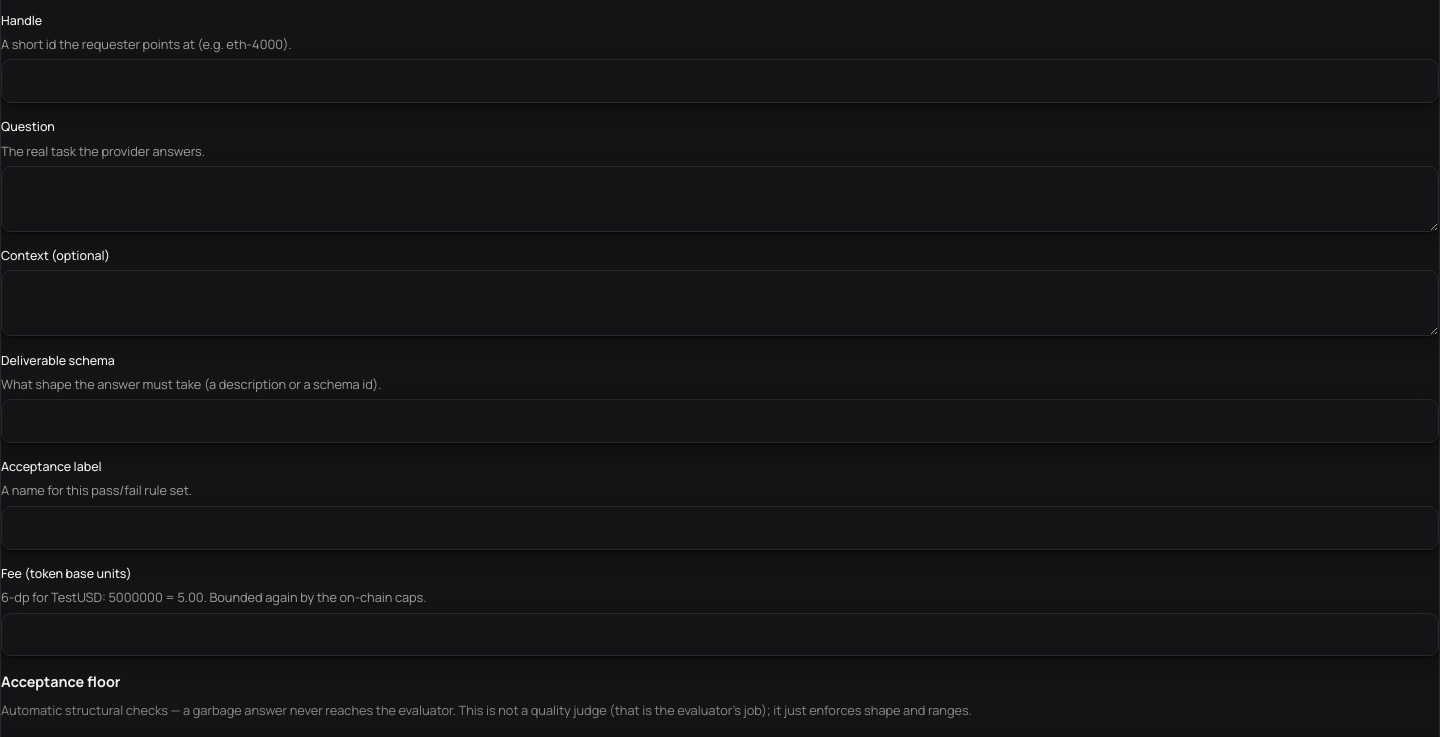
JobSpecEditor › refuses to save without a rule or a numeric fee (the floor cannot be empty)
Type "x" into the field with test id "js-ref". click: (720,81)
box: left=1, top=60, right=1439, bottom=103
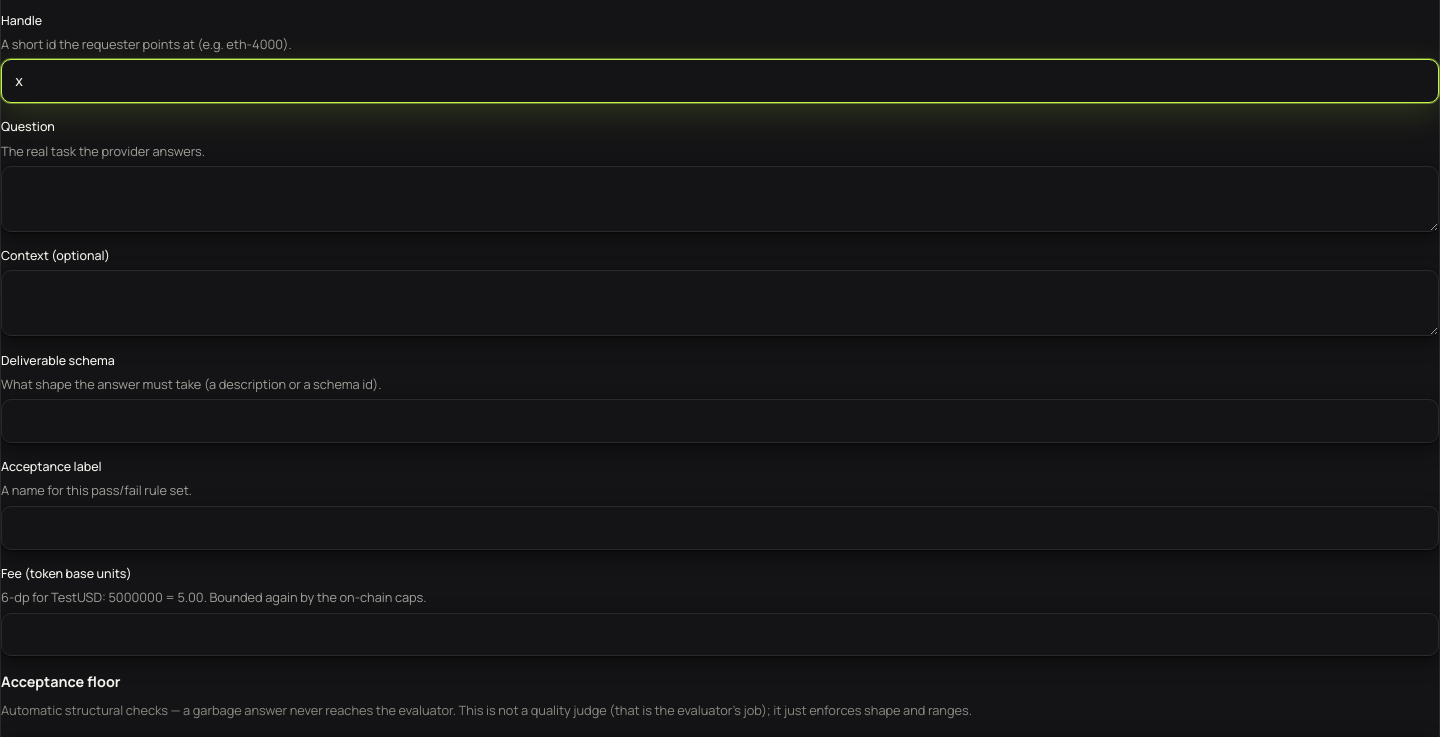
Type "q" into the text box with test id "js-question". click: (720,199)
box: left=1, top=166, right=1439, bottom=232
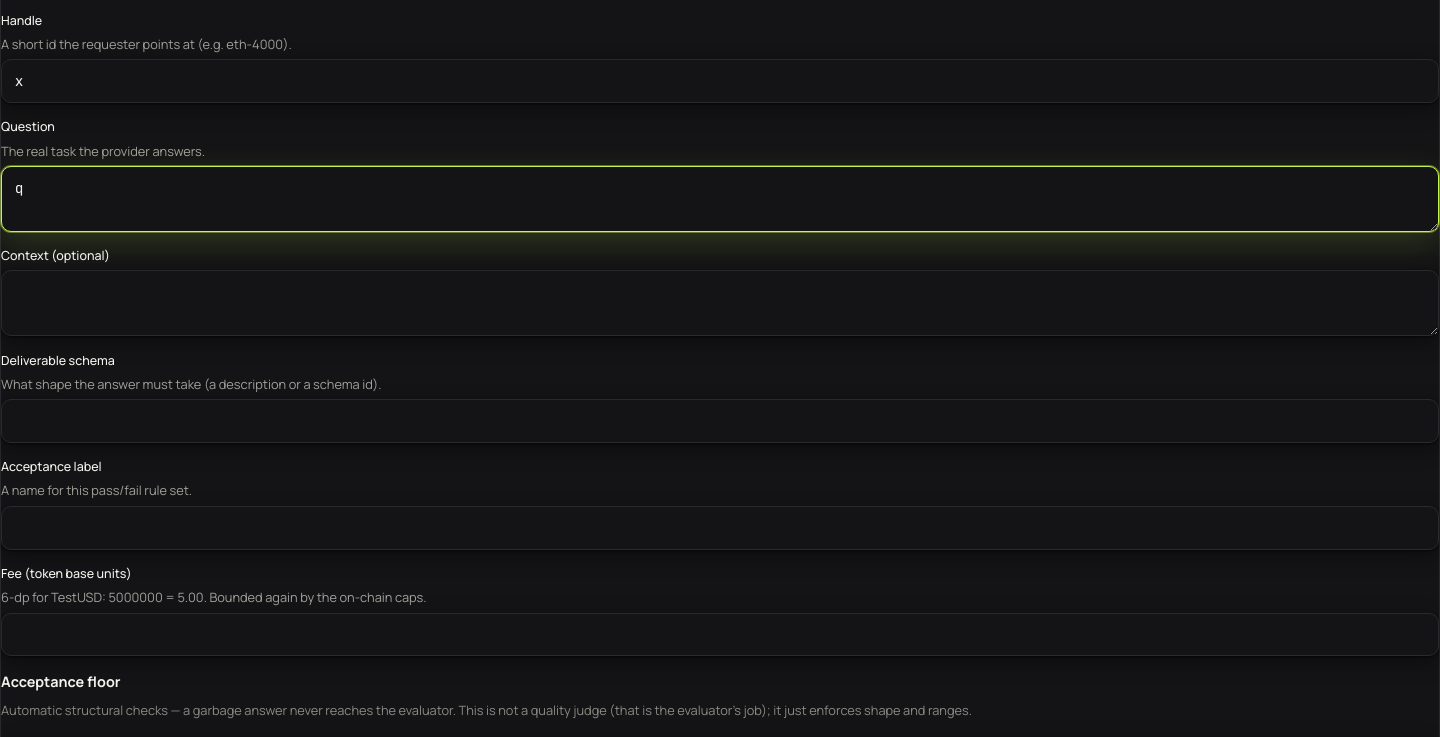
Type "s" into the field with test id "js-schema". click: (720,421)
box: left=1, top=399, right=1439, bottom=443
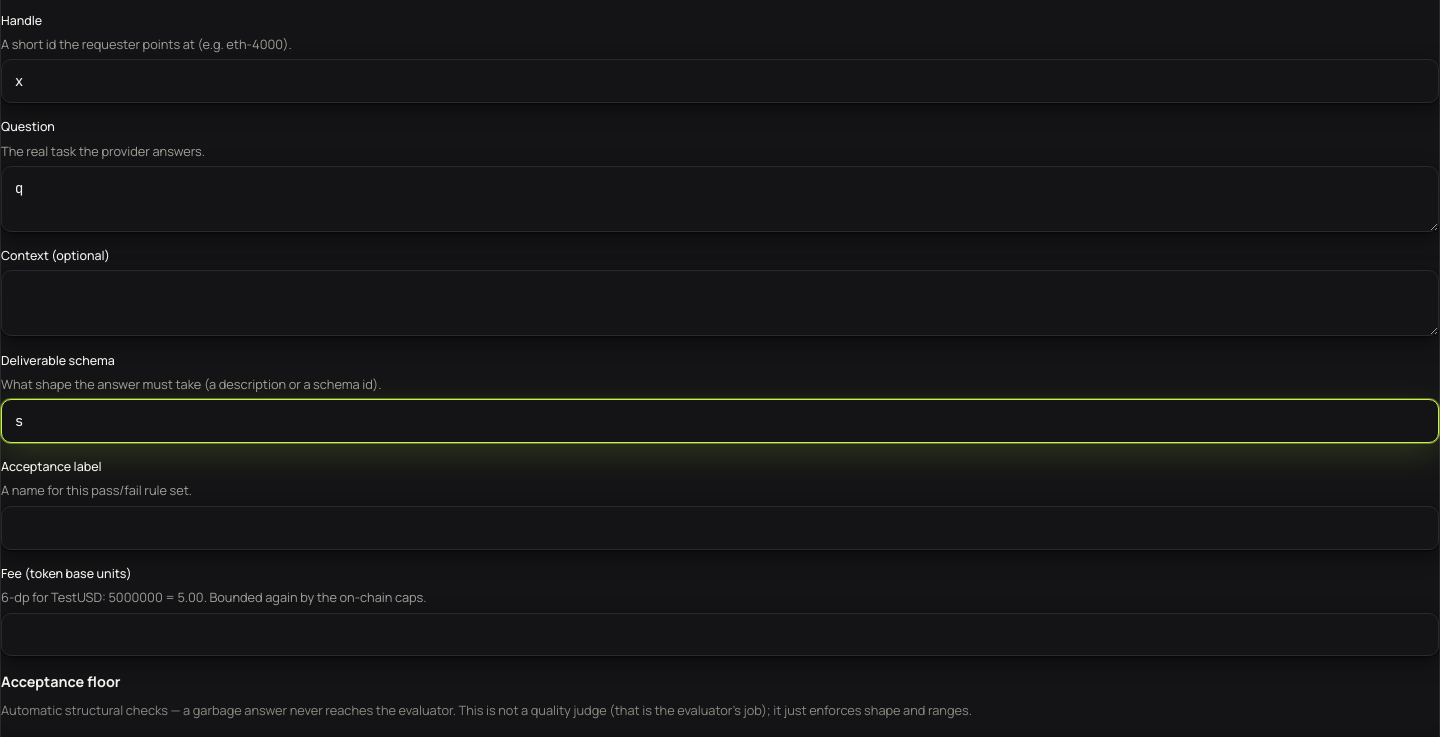
Type "a" into the field with test id "js-acceptance". click: (720,528)
box: left=1, top=506, right=1439, bottom=550
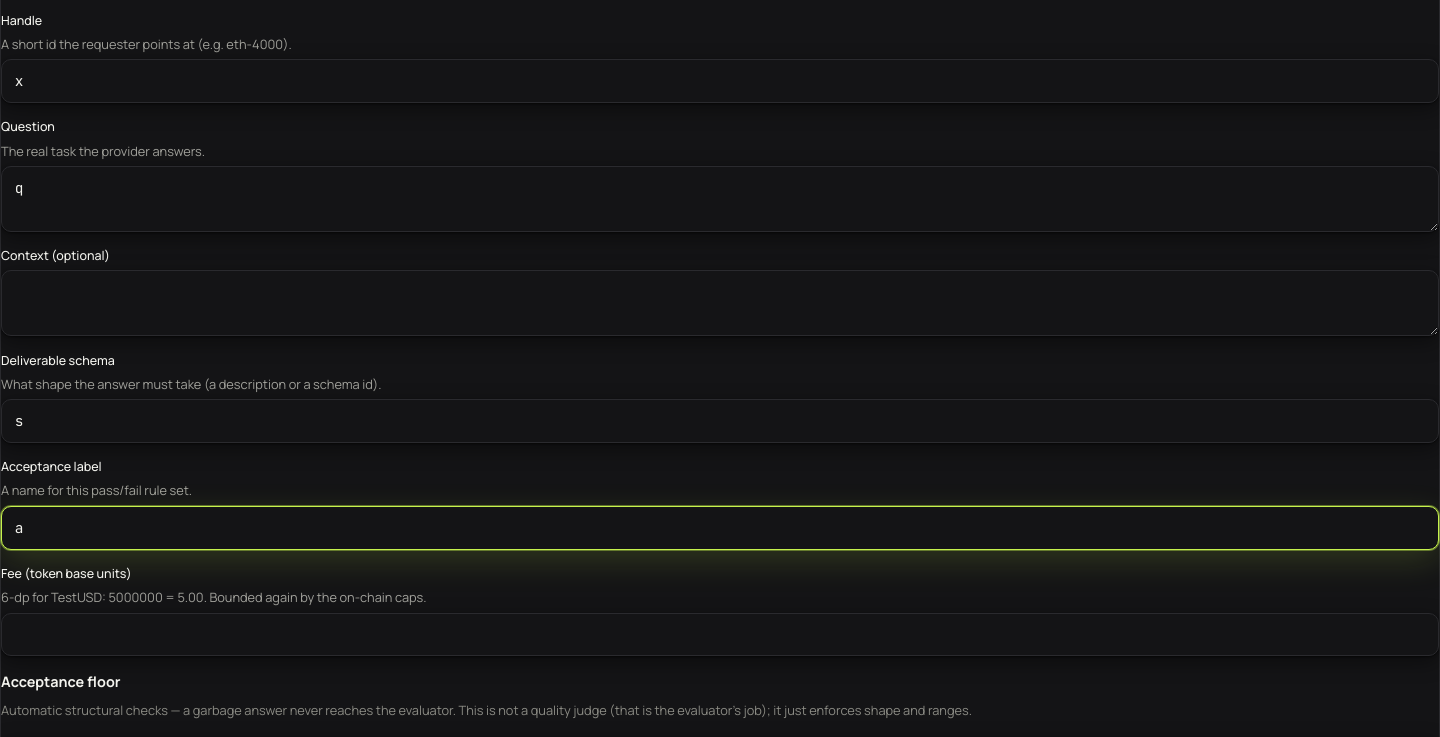
Type "notnumeric" into the field with test id "js-fee". click: (720,634)
box: left=1, top=613, right=1439, bottom=656
(page scrolled)
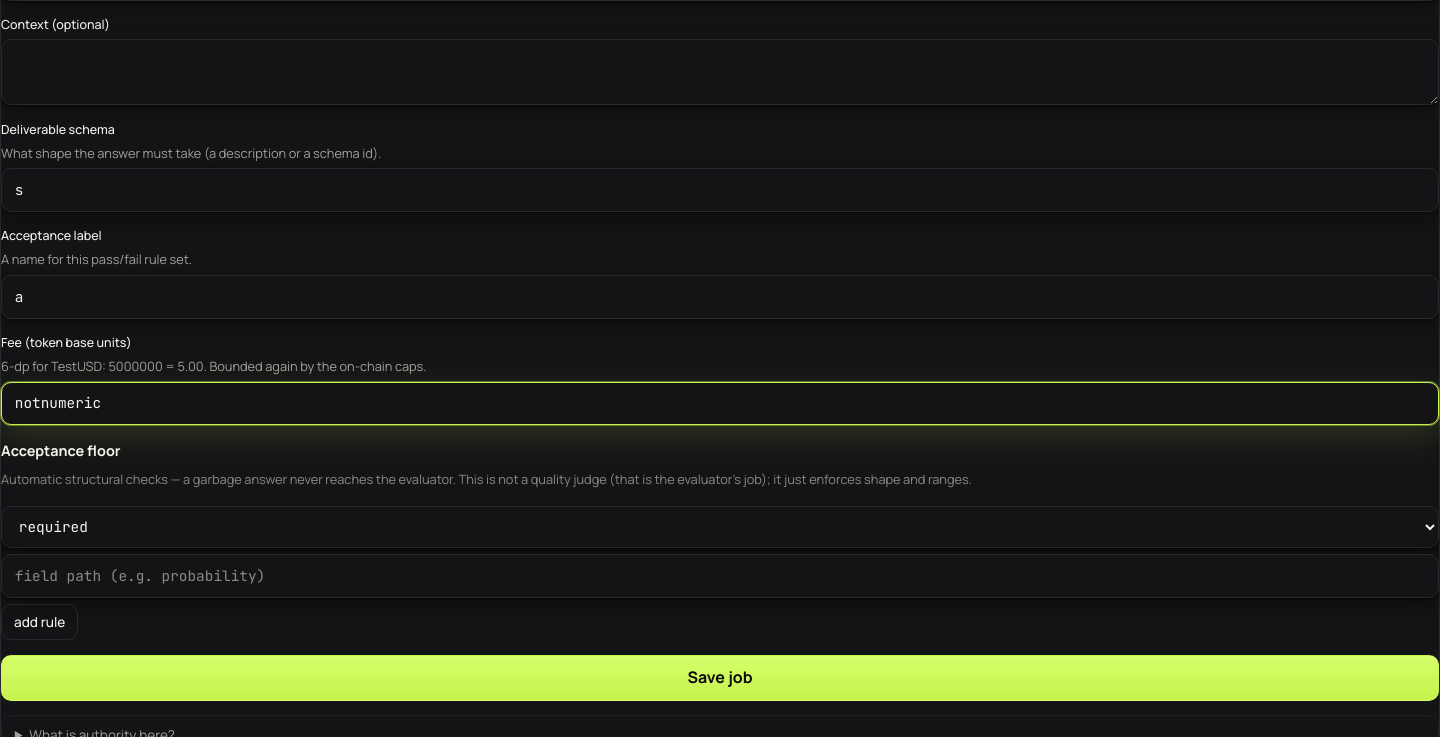
Click the button with test id "js-save". click: (720,678)
box: left=1, top=654, right=1439, bottom=700
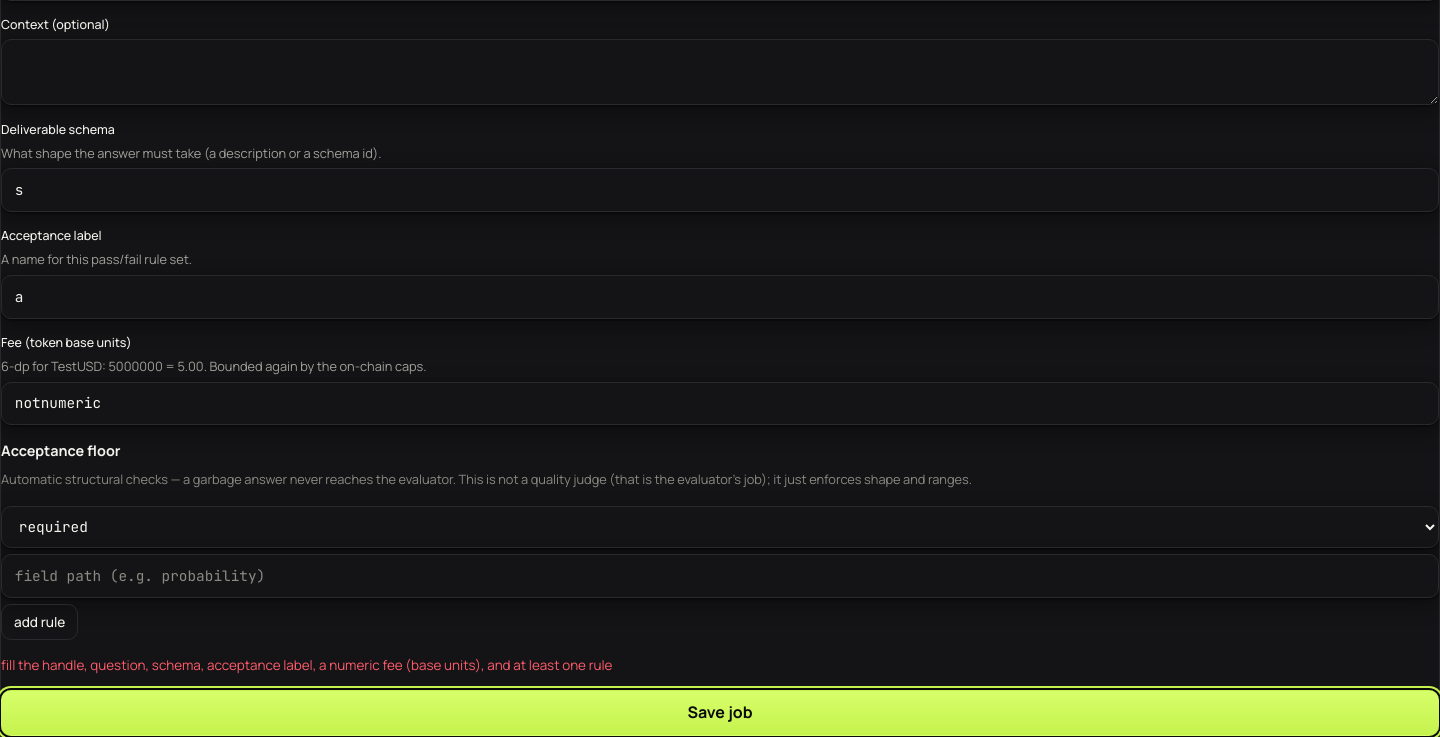
Expected: the text with test id "js-error" is shown, left=1, top=656, right=612, bottom=674
